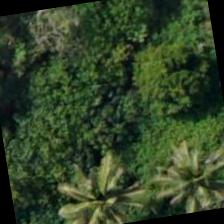Kelapa_Sawit: (52, 151, 153, 223), (143, 130, 223, 220)
